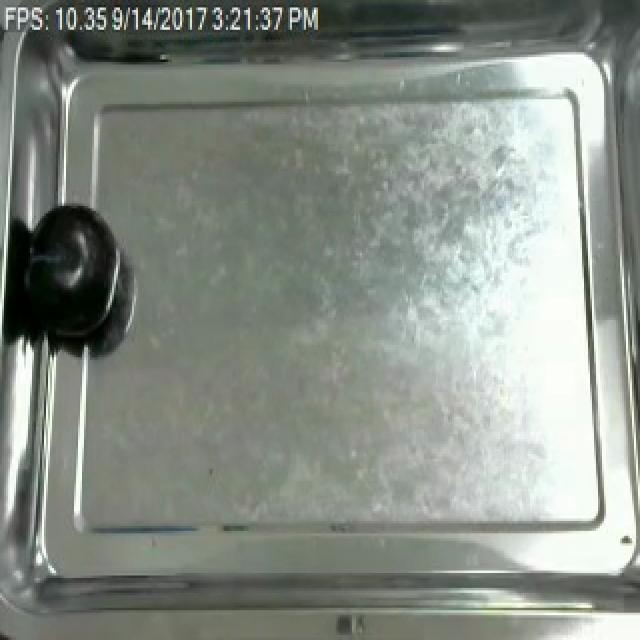Fruit: (18, 198, 130, 348)
